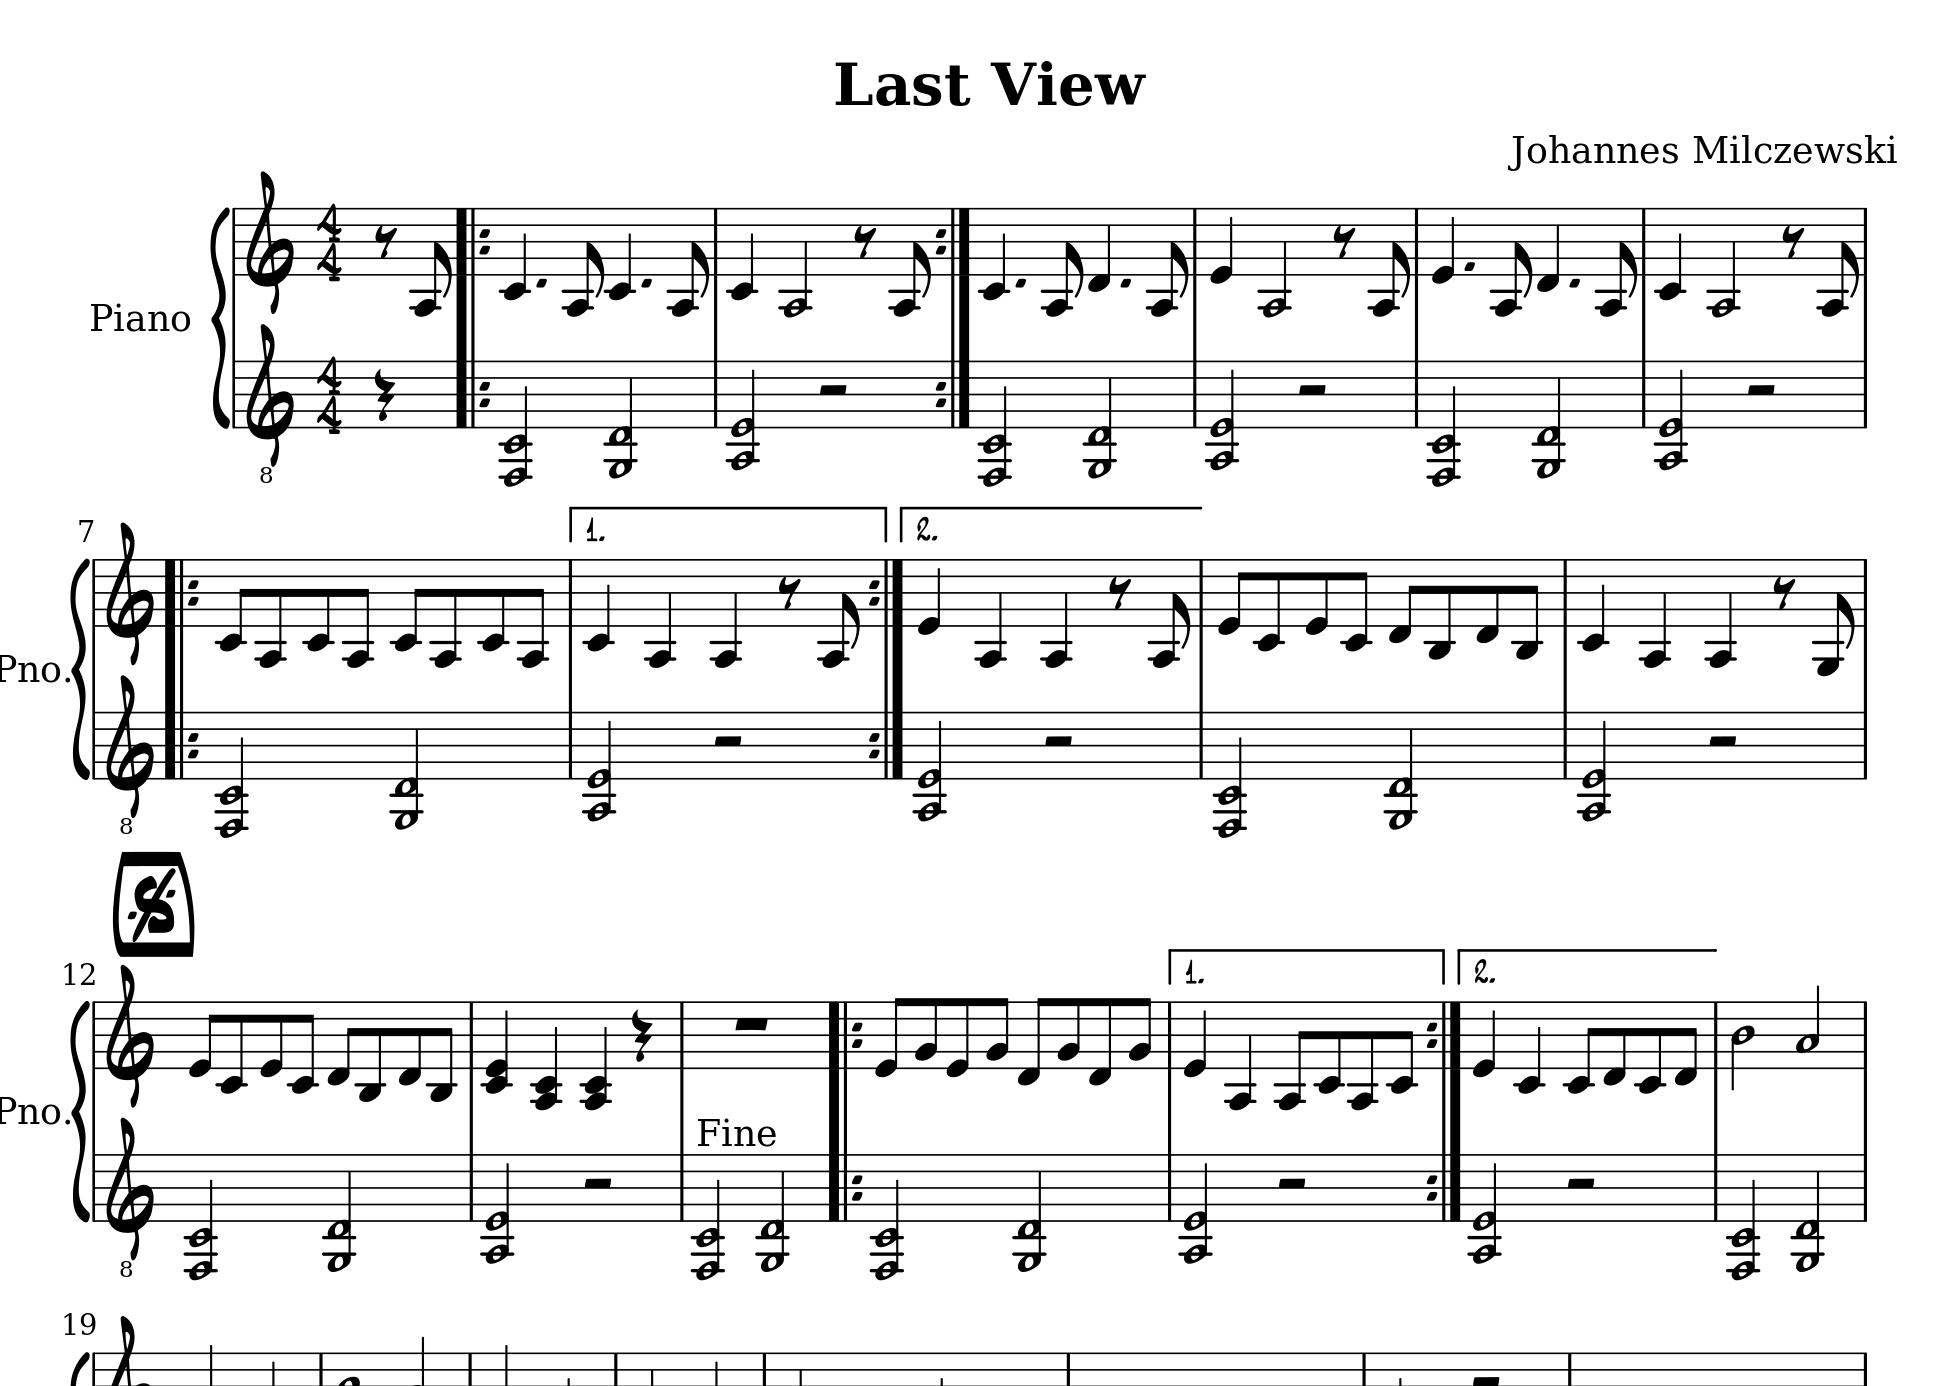1: (61, 1309, 76, 1336), (61, 960, 75, 987)
2: (78, 961, 96, 987)
2_-4: (778, 204, 811, 318), (1258, 205, 1291, 318), (1707, 205, 1738, 318)
2_-4_0: (724, 360, 762, 469), (582, 708, 616, 823), (1653, 357, 1687, 472), (1468, 1147, 1503, 1263), (910, 706, 945, 820), (1179, 1150, 1212, 1266), (1206, 358, 1239, 472), (1578, 709, 1611, 823), (478, 1150, 511, 1264)
2_-5_-1: (390, 706, 423, 829), (1791, 1150, 1824, 1273), (754, 1150, 787, 1273), (322, 1150, 355, 1273), (604, 358, 637, 480), (1083, 355, 1116, 477), (1533, 357, 1566, 478), (1383, 709, 1416, 831), (1012, 1153, 1045, 1275)
2_-6_-2: (498, 358, 534, 489), (978, 357, 1014, 487), (1428, 357, 1464, 487), (1212, 708, 1248, 838), (211, 708, 247, 838), (1723, 1150, 1759, 1281), (868, 1149, 904, 1279), (690, 1149, 726, 1279), (181, 1152, 217, 1282)
2_3: (1794, 984, 1822, 1068)
2_4: (1729, 997, 1756, 1090)
4: (315, 393, 346, 435), (315, 201, 345, 241), (315, 241, 345, 282), (316, 354, 345, 394)
4_-1: (1536, 205, 1563, 295)
4_-2: (499, 205, 529, 301), (726, 205, 756, 301), (1654, 205, 1684, 301), (583, 556, 613, 652), (1515, 999, 1545, 1095), (979, 205, 1008, 301), (1578, 556, 1606, 652), (607, 205, 634, 301)
4_-4: (973, 556, 1008, 669), (709, 556, 742, 669), (643, 556, 676, 667), (1638, 556, 1671, 667), (1704, 556, 1737, 667), (1225, 999, 1257, 1111), (1041, 556, 1072, 667)
4_0: (1209, 204, 1236, 286), (1431, 204, 1458, 286), (916, 556, 943, 637), (1473, 997, 1498, 1078), (1183, 999, 1209, 1078)
4_th: (579, 1000, 613, 1114)
7: (76, 514, 94, 544)
8_-1: (1014, 996, 1050, 1087), (1387, 556, 1419, 645), (325, 999, 355, 1087), (1086, 994, 1114, 1087), (1474, 556, 1503, 645), (1086, 204, 1113, 294), (1602, 997, 1629, 1087), (397, 997, 423, 1087), (1674, 999, 1699, 1087)
8_-2: (214, 556, 250, 652), (390, 556, 424, 652), (1564, 997, 1599, 1093), (1254, 556, 1284, 652), (288, 997, 318, 1093), (303, 556, 333, 651), (478, 556, 508, 651), (1341, 556, 1371, 651), (1635, 999, 1665, 1093), (1315, 999, 1344, 1095), (1387, 997, 1416, 1093), (217, 999, 246, 1093)
8_-3: (1425, 556, 1455, 661), (1512, 558, 1542, 661), (355, 1000, 385, 1102), (427, 999, 456, 1102)
8_-4: (1596, 204, 1639, 318), (667, 204, 711, 316), (1491, 204, 1533, 319), (562, 204, 604, 318), (1818, 205, 1860, 319), (889, 205, 931, 318), (1042, 205, 1084, 318), (1147, 205, 1189, 318), (411, 205, 451, 318), (1369, 205, 1410, 318), (819, 556, 859, 669), (1150, 556, 1191, 667), (1275, 997, 1311, 1111), (342, 556, 373, 667), (517, 556, 549, 667), (255, 556, 285, 667), (430, 556, 460, 667), (1347, 999, 1377, 1110)
8_-5: (1813, 556, 1855, 678)
8_0: (874, 994, 906, 1078), (187, 997, 219, 1080), (943, 994, 972, 1078), (1218, 556, 1248, 636), (1305, 556, 1330, 634), (259, 999, 285, 1077)
8_2: (984, 994, 1011, 1069), (1056, 996, 1083, 1069), (913, 994, 939, 1069), (1128, 994, 1152, 1069)
9: (78, 1308, 96, 1336)
Brace: (70, 997, 91, 1221), (70, 553, 90, 781)
Gclef: (103, 961, 156, 1108), (244, 168, 295, 316), (103, 520, 154, 667)
LeftRepeatSign: (823, 999, 862, 1068), (825, 1153, 864, 1222), (453, 358, 490, 427), (162, 709, 198, 778), (454, 207, 490, 274), (163, 558, 198, 625)
Lower_Gclef: (244, 322, 295, 487), (105, 1114, 156, 1279), (105, 673, 154, 835)
Pno: (87, 301, 192, 333), (1, 651, 60, 685), (1, 1093, 60, 1126)
Prima_volta: (567, 504, 888, 546), (1164, 943, 1449, 985)
Rests1: (730, 1012, 772, 1033)
Rests2: (577, 1171, 616, 1194), (1741, 379, 1780, 400), (814, 379, 850, 400), (1294, 379, 1330, 400), (1704, 732, 1741, 751), (1273, 1174, 1311, 1194), (709, 732, 745, 751), (1041, 732, 1077, 751), (1563, 1174, 1599, 1194), (1468, 1372, 1503, 1386)
Rests4: (372, 364, 396, 421), (628, 1006, 652, 1063)
Rests8: (372, 223, 399, 259), (850, 223, 877, 259), (775, 574, 802, 610), (1107, 574, 1134, 610), (1770, 574, 1797, 609), (1332, 223, 1357, 259), (1780, 223, 1806, 258)
RightRepeatSign: (934, 205, 973, 276), (934, 360, 973, 427), (867, 711, 906, 778), (1425, 1153, 1464, 1221), (1426, 1000, 1464, 1068), (868, 559, 906, 625)
Seconda_volta: (897, 505, 1209, 547), (1453, 946, 1719, 982)
Segno: (126, 868, 180, 939)
Single_barline: (706, 208, 724, 276), (1557, 559, 1575, 625), (1192, 559, 1210, 625), (1636, 208, 1653, 276), (673, 1000, 690, 1068), (1162, 1000, 1179, 1068), (1708, 1000, 1725, 1068), (1857, 1000, 1873, 1068), (673, 1153, 690, 1221), (1855, 1153, 1872, 1221), (1707, 1153, 1723, 1221), (1857, 208, 1873, 274), (1408, 208, 1425, 274), (562, 559, 579, 625), (463, 1002, 480, 1068), (708, 360, 723, 427), (1188, 360, 1203, 427), (463, 1153, 478, 1221), (1162, 1153, 1177, 1221), (1188, 208, 1203, 274), (1410, 361, 1425, 427), (1636, 361, 1651, 427), (1857, 361, 1872, 427), (1857, 559, 1872, 625), (562, 712, 577, 778), (1194, 712, 1209, 778), (1557, 712, 1572, 778), (1857, 712, 1872, 778), (228, 207, 241, 276), (228, 361, 241, 426), (88, 559, 100, 627), (88, 1000, 100, 1068), (88, 712, 100, 777), (88, 1155, 100, 1219)
Slur: (208, 204, 231, 430)
TimeSig: (313, 202, 346, 282), (313, 354, 345, 435)
dot: (1117, 274, 1135, 292), (1461, 258, 1479, 274), (639, 274, 655, 292), (1566, 274, 1584, 291), (535, 274, 550, 292), (1014, 274, 1029, 291)
